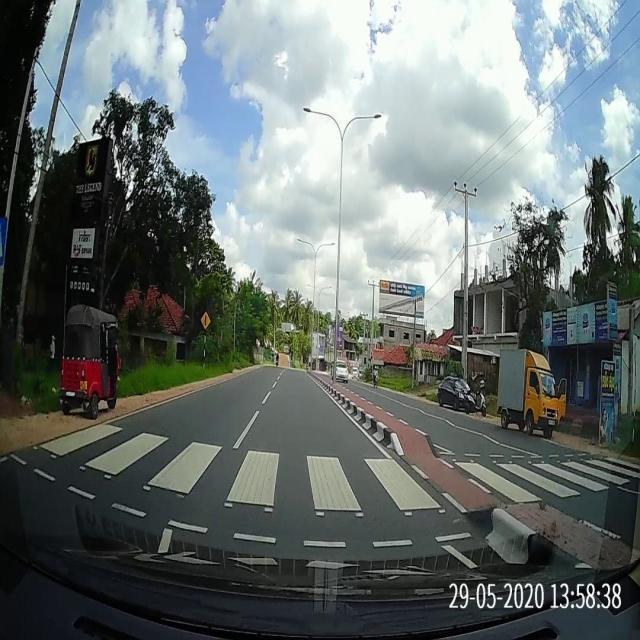Crosswalk: (5, 420, 639, 555)
